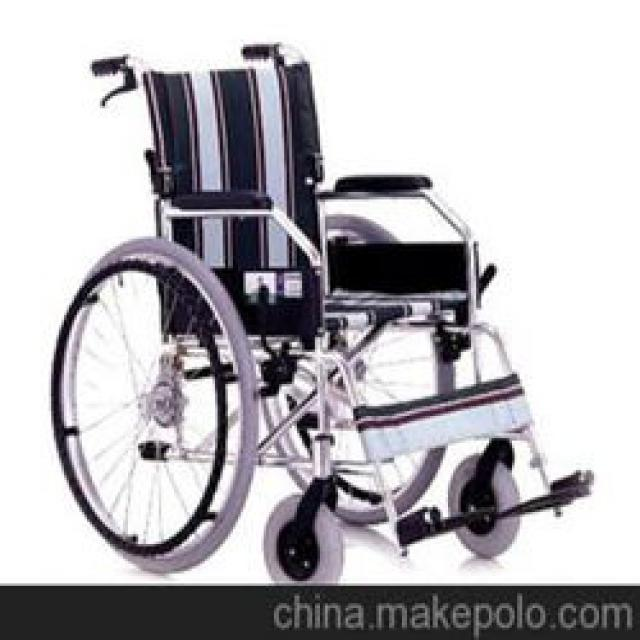wheelchair: (46, 29, 604, 584)
